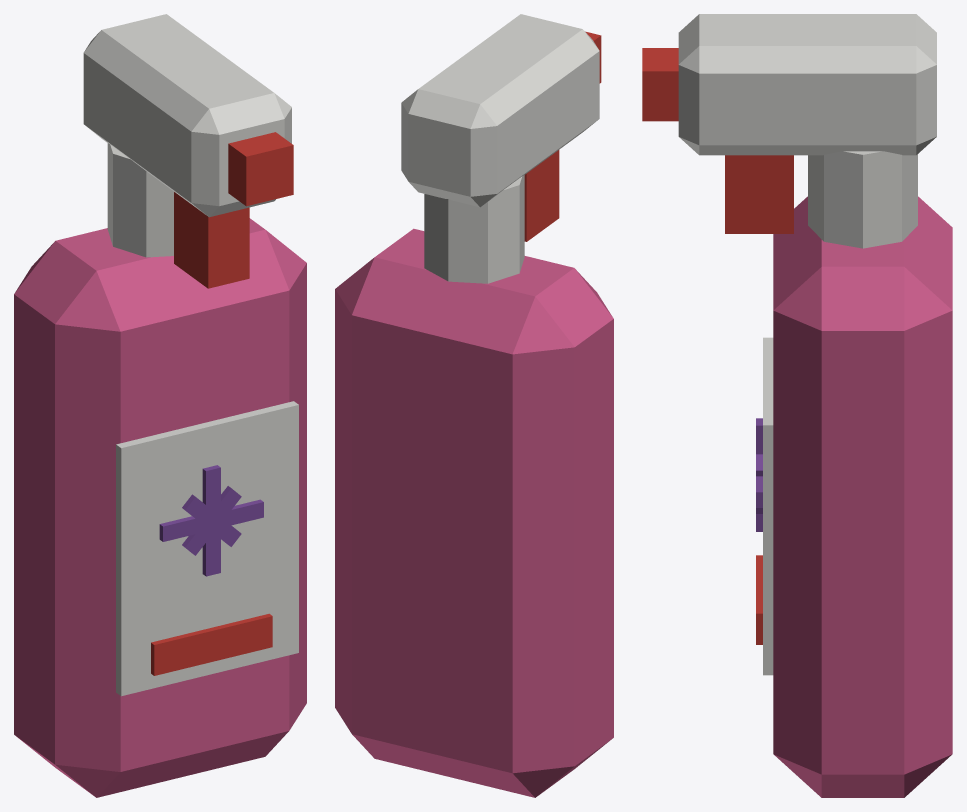
Rendered from hh_lau_san.glb.
The picture shows the model from 3 angles, left to right: view 1: azimuth 30°, elevation 25°; view 2: azimuth 150°, elevation 25°; view 3: azimuth 270°, elevation 25°; orthographic projection. The views are drawn at different scales.
Parts seen in each view (by area): view 1: hh_lau_san; view 2: hh_lau_san; view 3: hh_lau_san.
Part boxes in pixels (left/top/right/bottom): hh_lau_san: left=14, top=14, right=306, bottom=797; hh_lau_san: left=335, top=14, right=613, bottom=797; hh_lau_san: left=642, top=14, right=952, bottom=797.
Size of the model in its own units: 0.085 by 0.2325 by 0.09.
